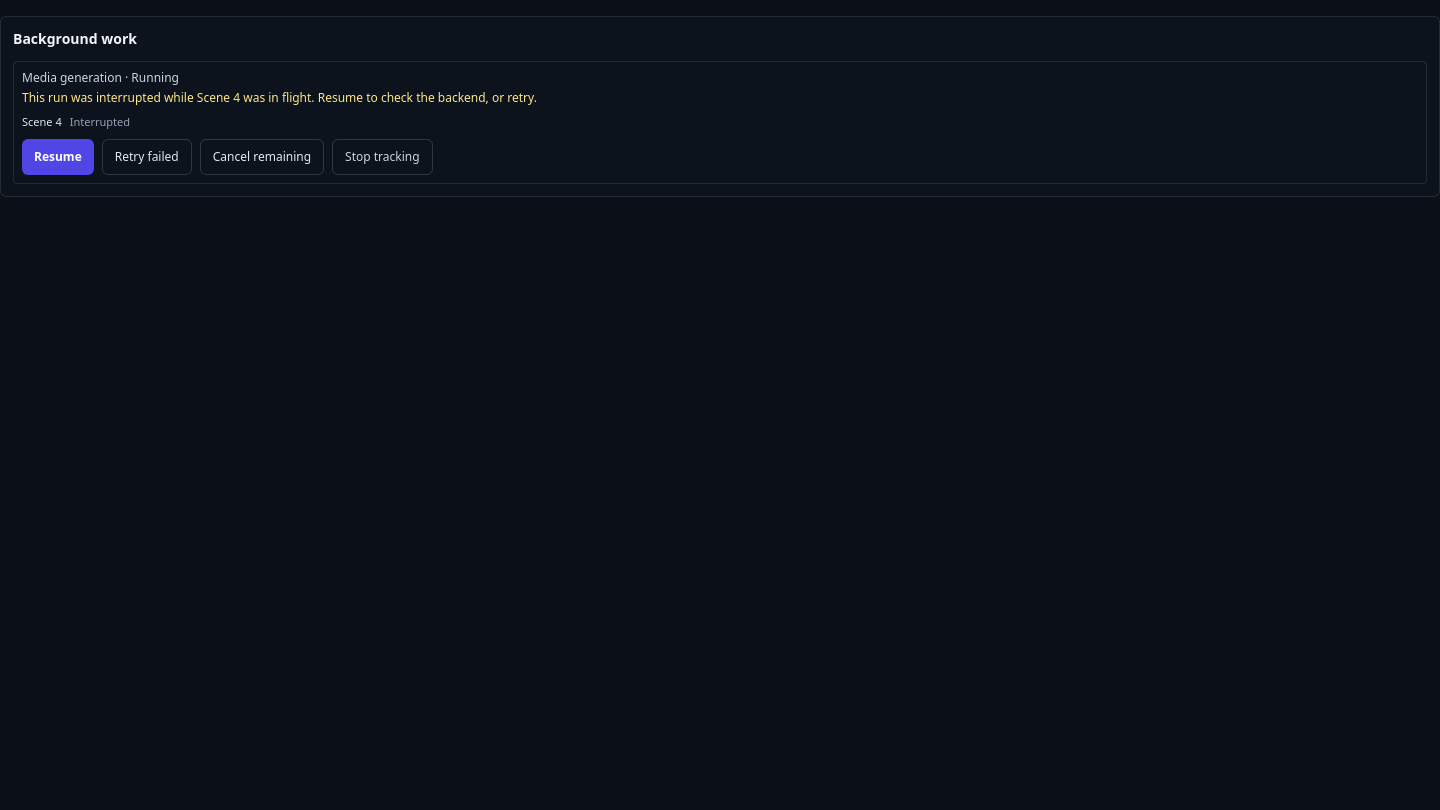
it: recovery keyboard behaviour › does not claim a stopped job was cancelled
This screenshot has width=1440, height=810.
Click the button "Stop tracking" at coordinates (382, 156), box x1=332 y1=138 x2=432 y2=174
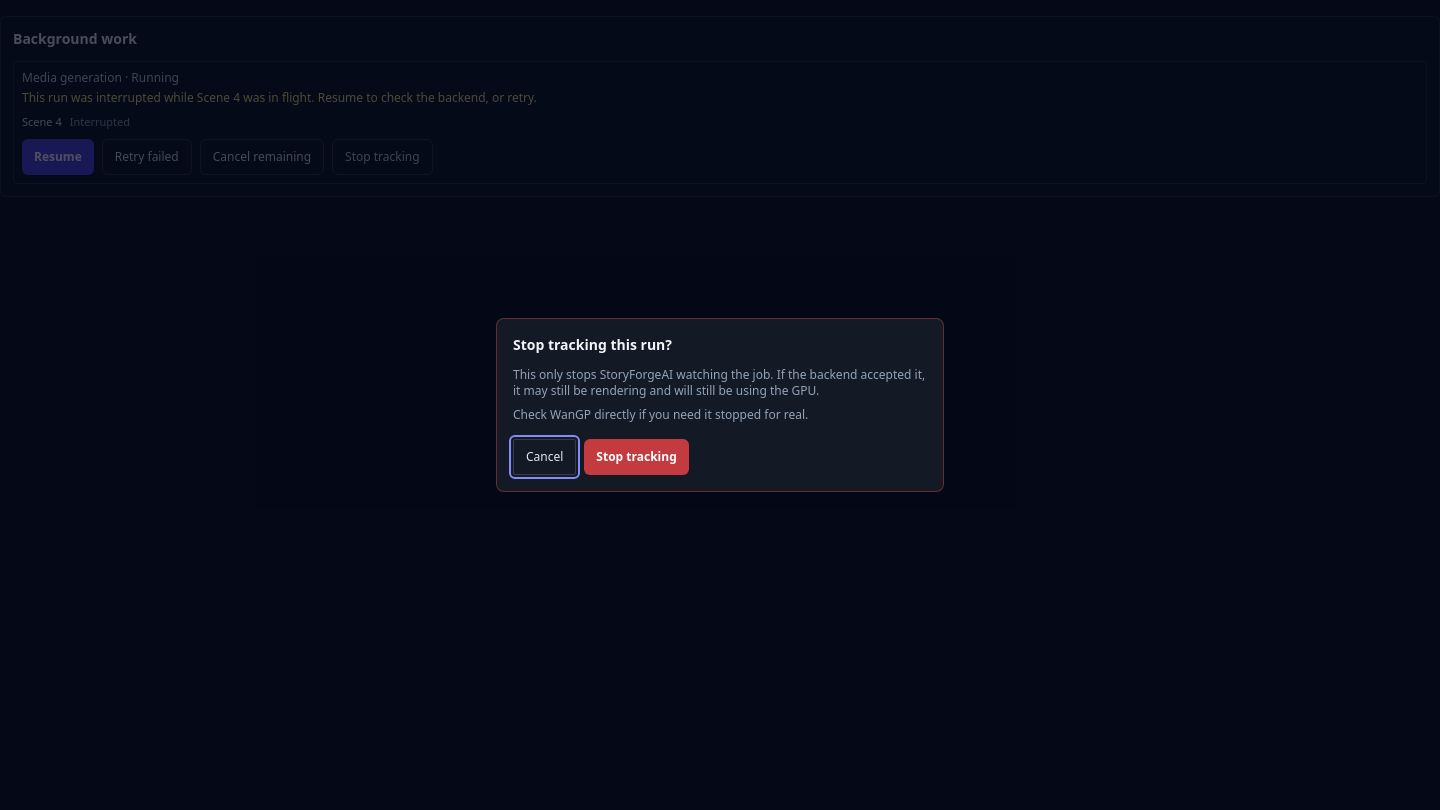
# Both the trigger and the dialog's confirm are named "Stop tracking".
Click the button "Stop tracking" at coordinates (637, 457), box x1=584 y1=439 x2=689 y2=475
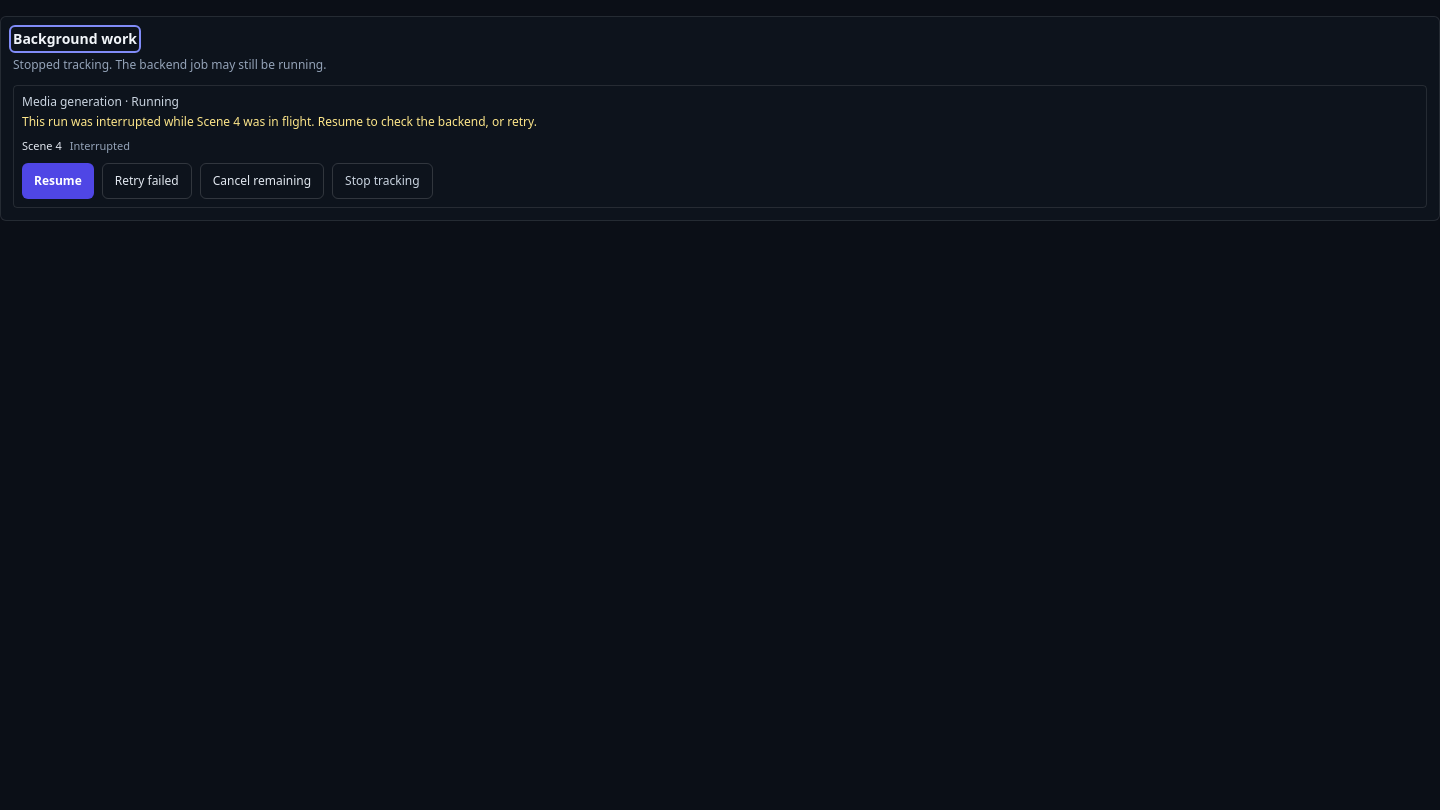
expect the message with test id "recovery-status" shows "may still be running": met, box x1=13 y1=56 x2=326 y2=73
